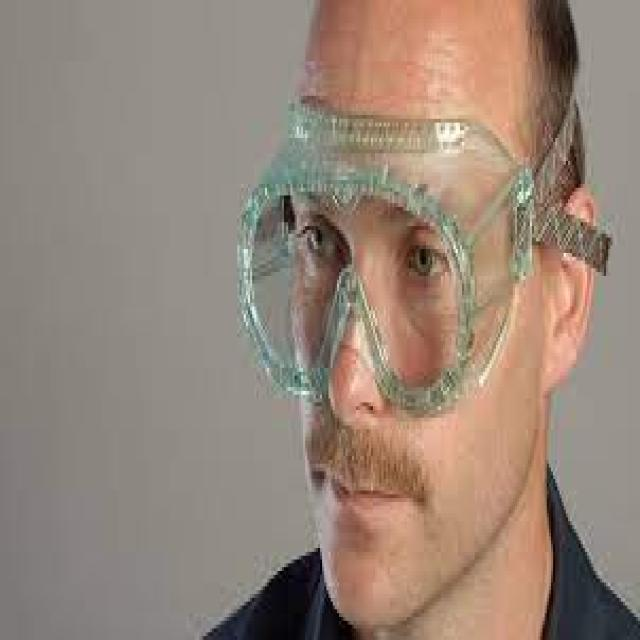goggles_on: (228, 89, 615, 424)
